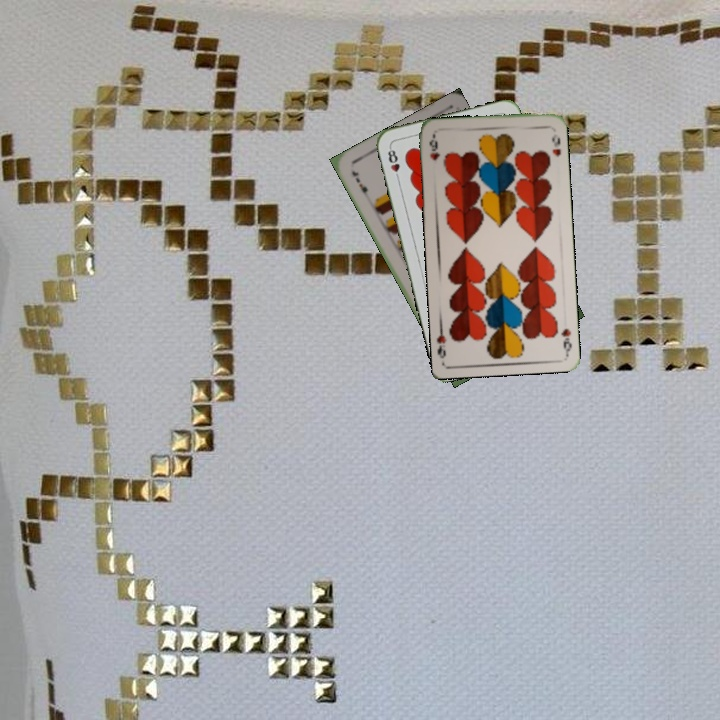E7: (347, 167, 372, 202)
H8: (384, 143, 402, 183)
H9: (425, 133, 443, 163), (557, 324, 574, 355)
